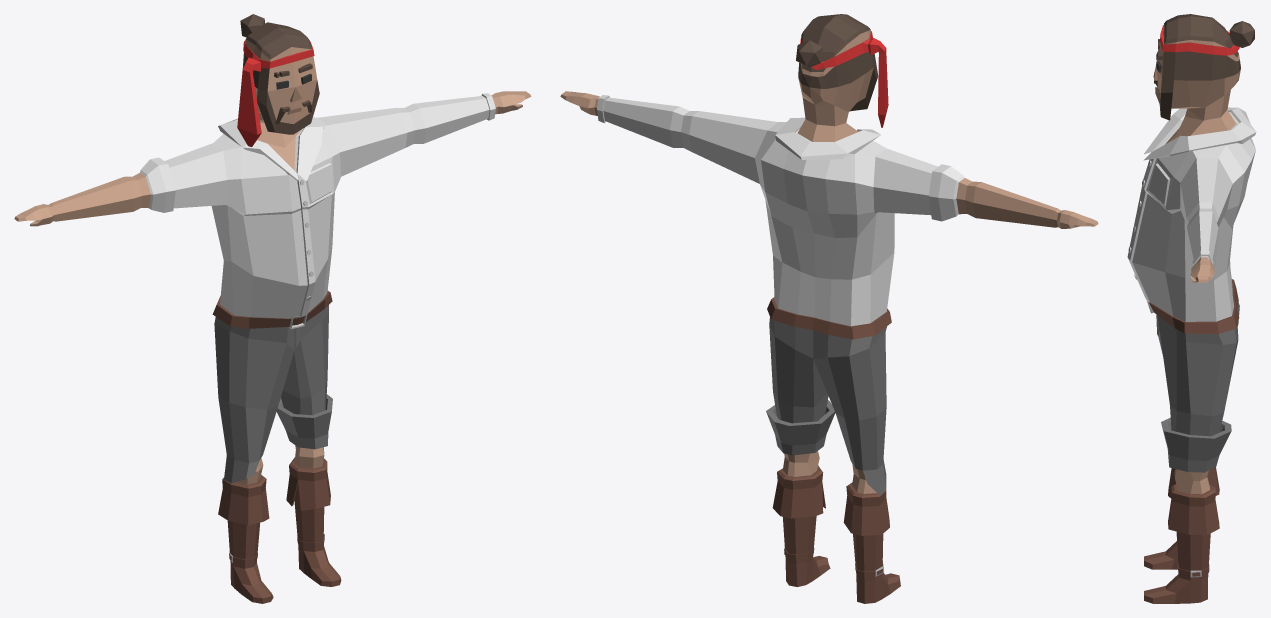
Rendered from Hubert.fbx.
3 views of the same model, side by side, from view 1: azimuth 30°, elevation 25°; view 2: azimuth 150°, elevation 25°; view 3: azimuth 270°, elevation 25° (orthographic). The views are drawn at different scales.
Visible parts, largest first — view 1: Cube; view 2: Cube; view 3: Cube.
Boxes of the visible parts, x1,y1,x2,y2 form: Cube: (14, 14, 531, 603); Cube: (560, 14, 1098, 603); Cube: (1127, 14, 1256, 603).
Bounding box in the file's own units: 1.75 × 1.79 × 0.3706.
